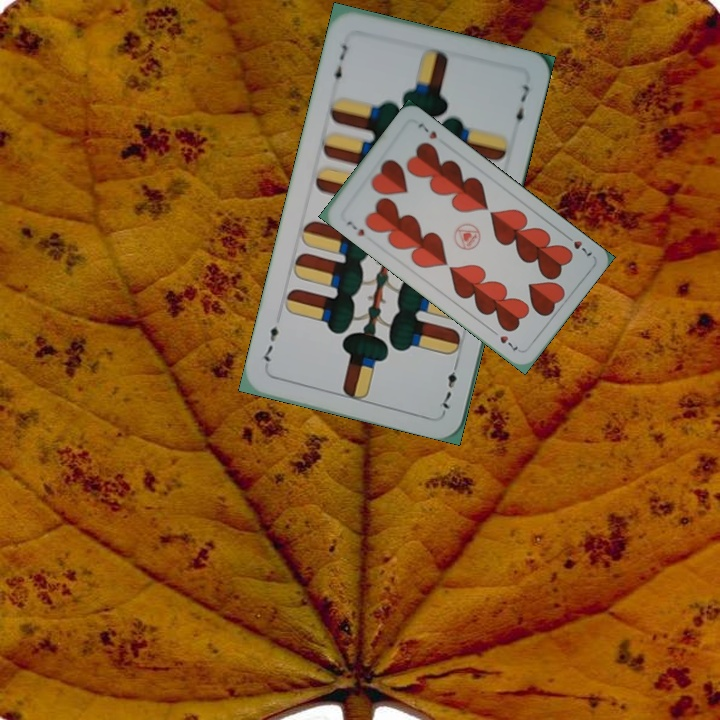E7: (435, 356, 461, 415), (329, 40, 350, 89)
H7: (560, 230, 595, 259), (343, 217, 367, 239)
